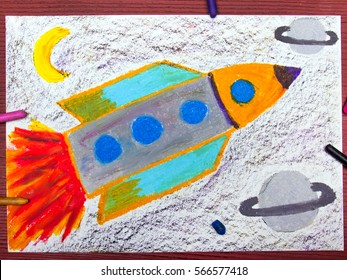moon: (32, 26, 71, 85)
roket: (7, 58, 303, 229)
